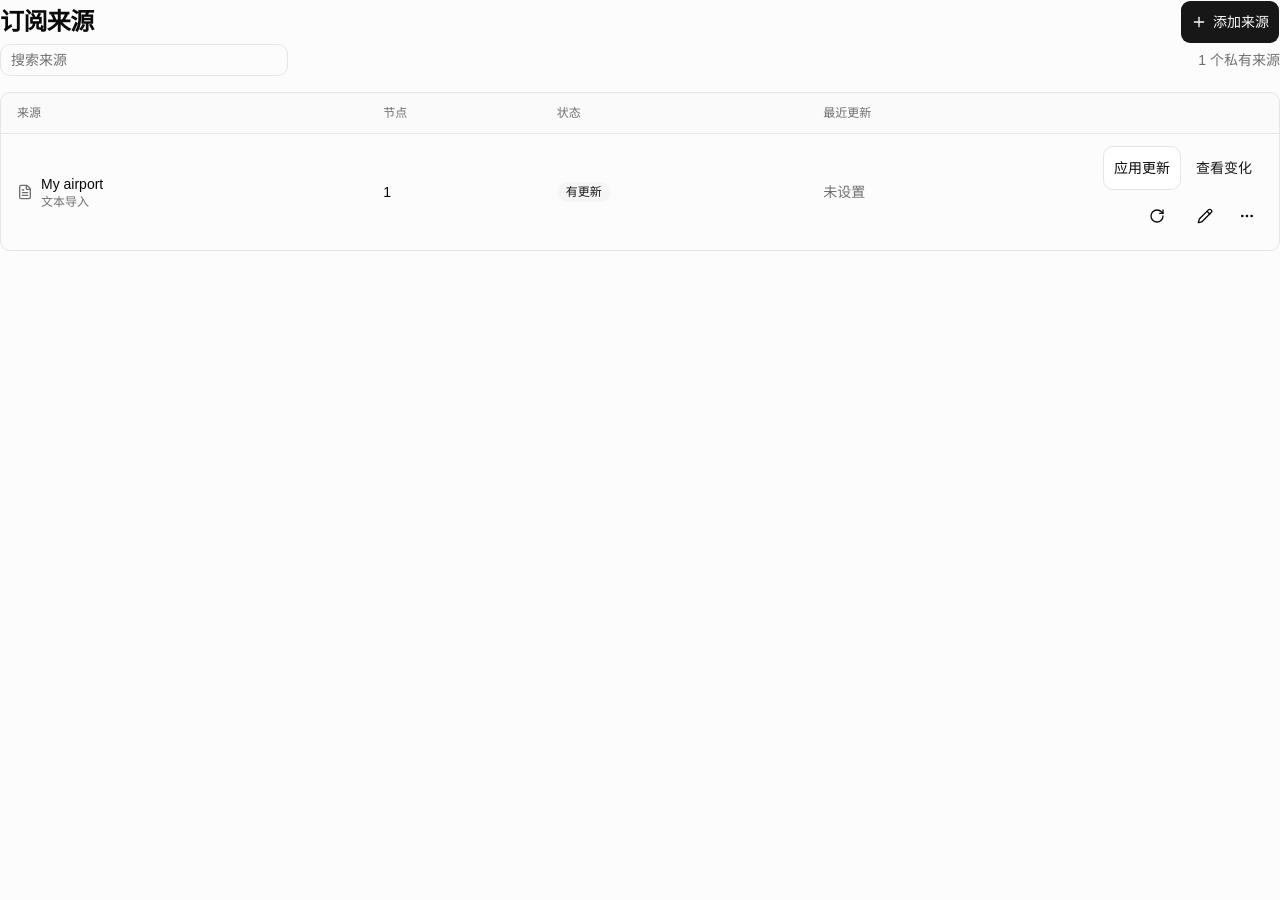
keeps a stale candidate visible and requires read-only verification before another decision
Click the button "查看变化" at {"x": 1224, "y": 168}, box [1185,146,1263,190]
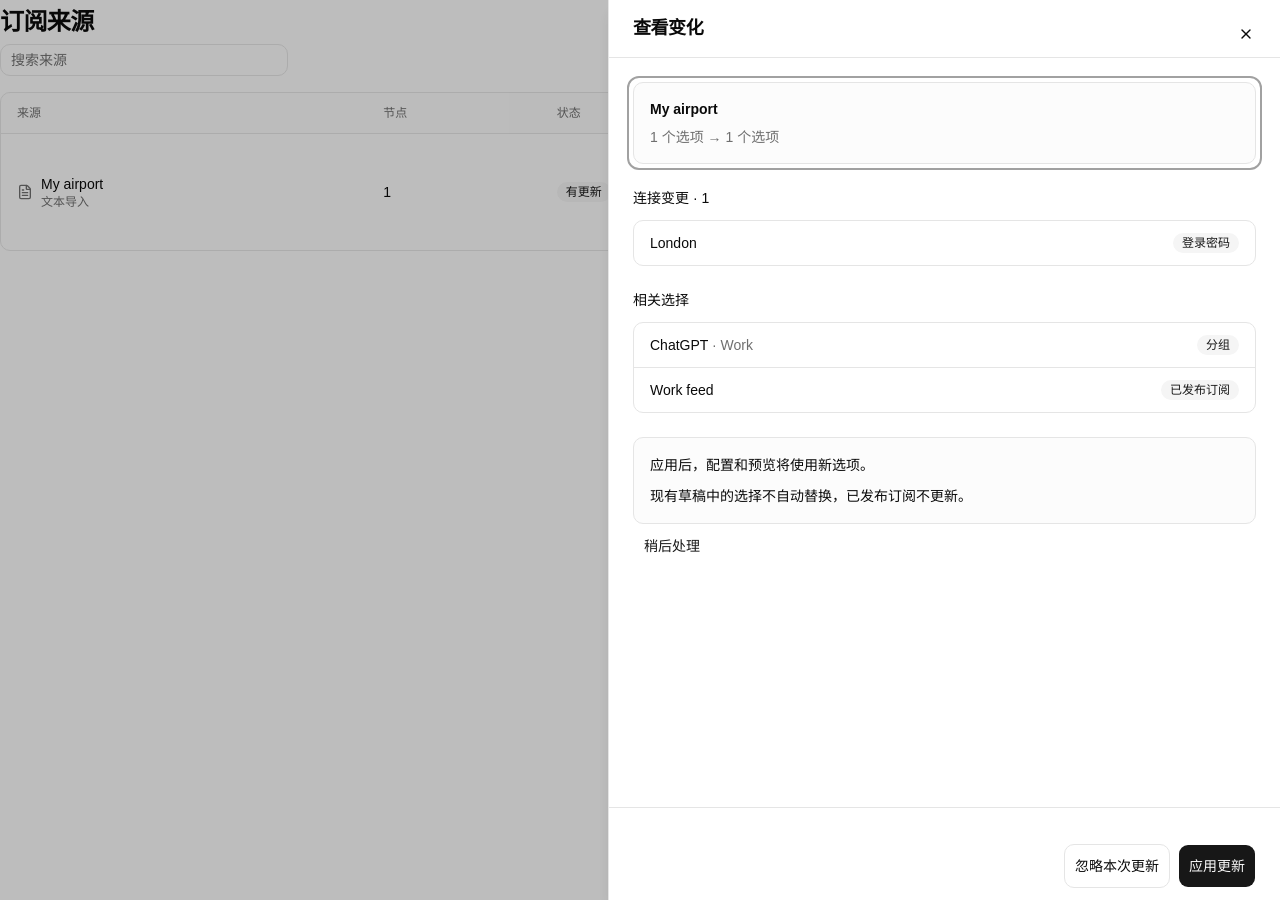
Click the button "应用更新" at {"x": 1217, "y": 866}, box [1178,844,1256,888]
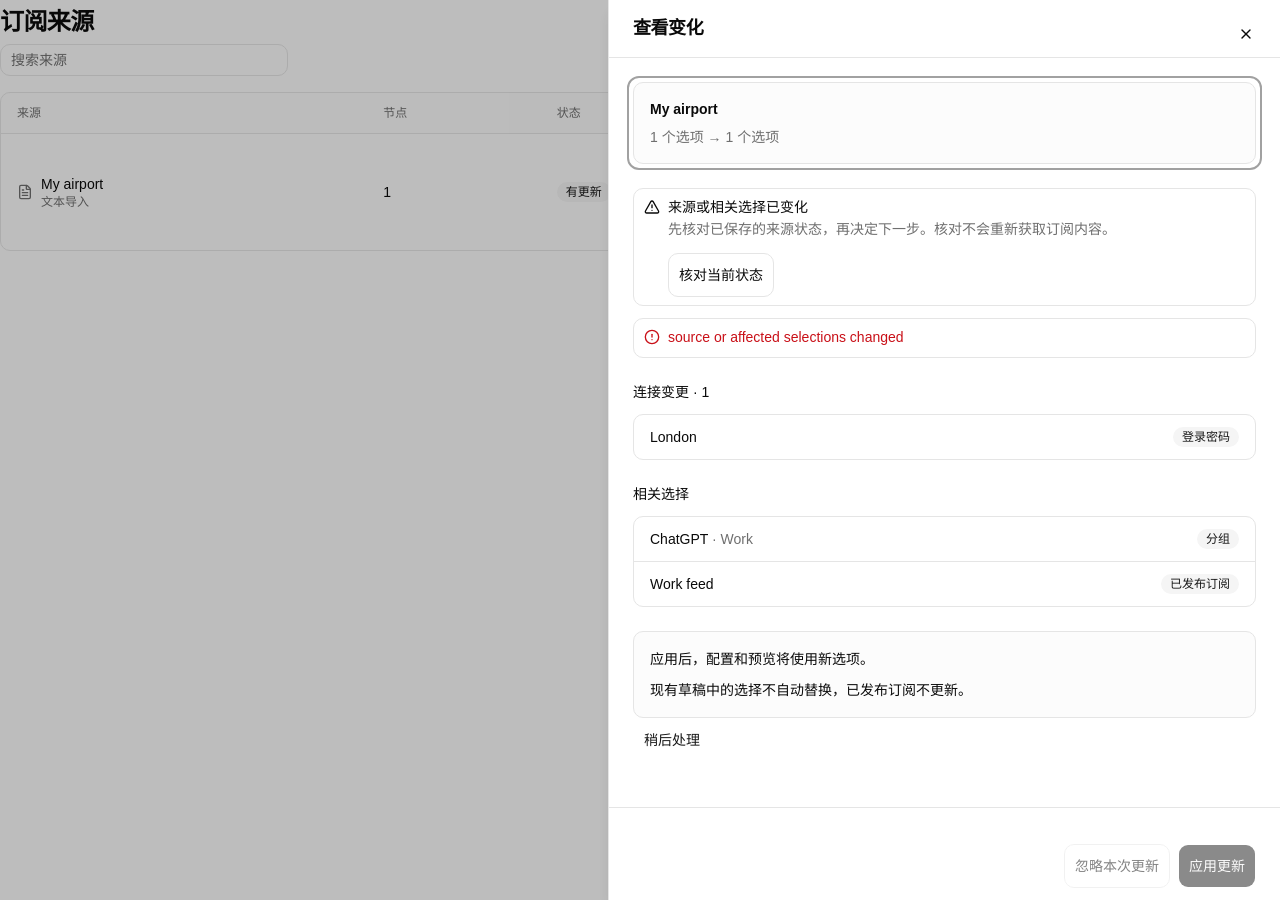
Check: the text "来源或相关选择已变化" is shown, box [668,199,808,215]
Check: the button "应用更新" is disabled, box [1178,844,1256,888]
Check: the button "核对当前状态" is shown, box [668,253,774,297]
